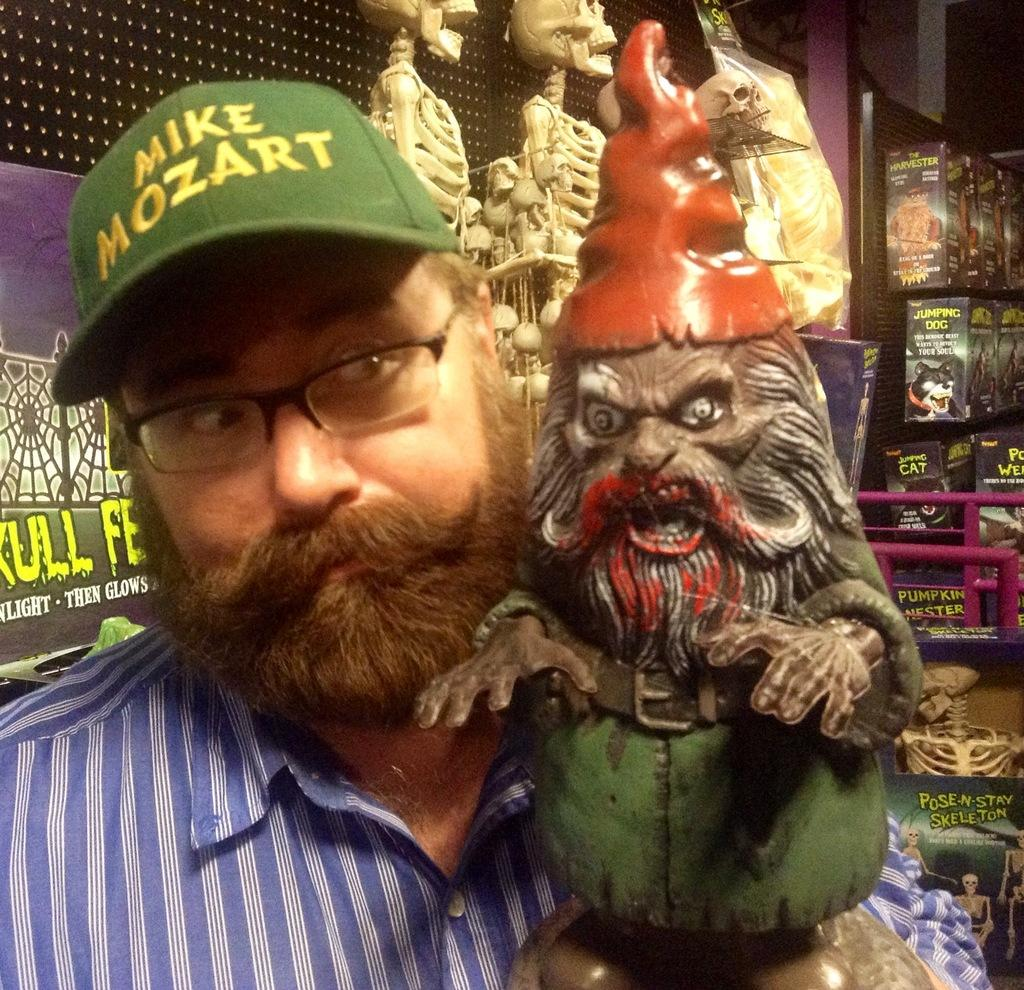Hat: (51, 83, 469, 408)
